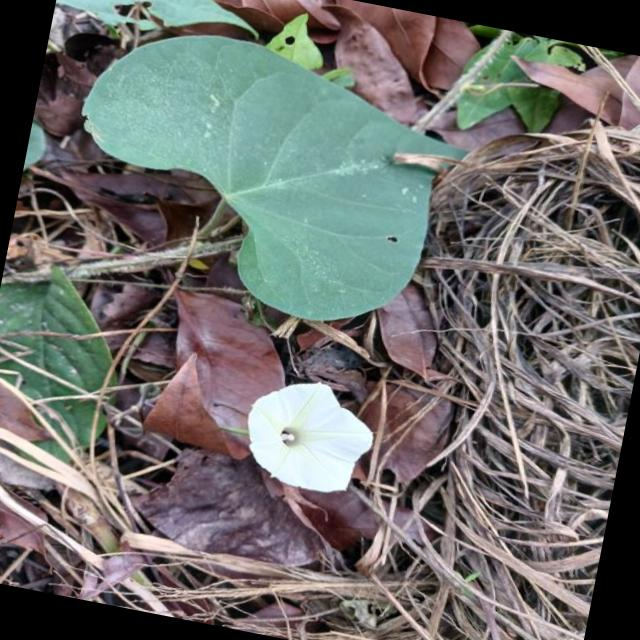ipomoea: (230, 367, 386, 504)
